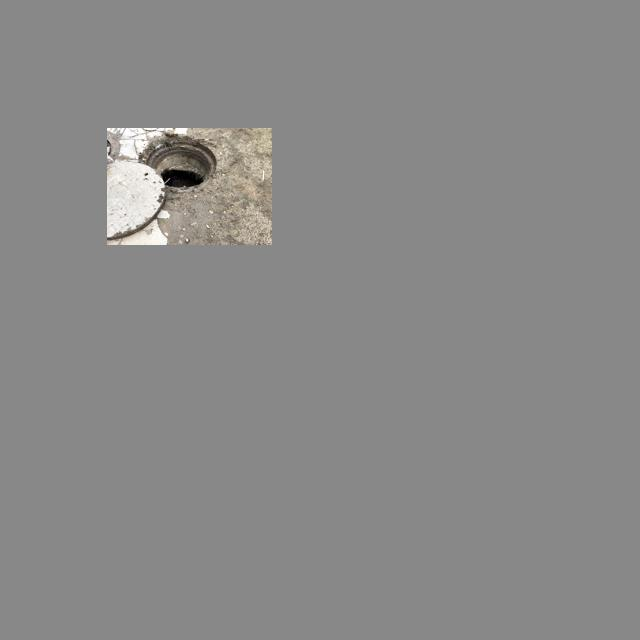uncovered: (108, 137, 215, 240)
